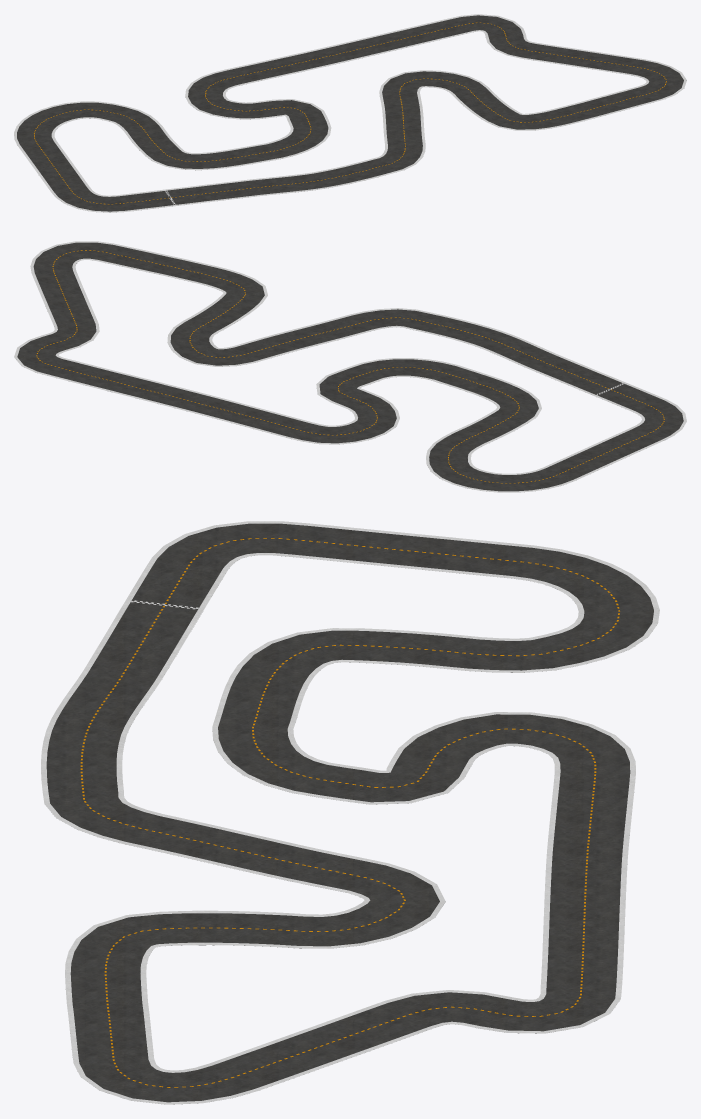
Rendered from 2022_july_pro.dae.
The picture shows the model from 3 angles, top to bottom: view 1: azimuth 30°, elevation 25°; view 2: azimuth 150°, elevation 25°; view 3: azimuth 270°, elevation 25°; orthographic projection. The views are drawn at different scales.
Parts seen in each view (by area): view 1: road, il, ol, cl; view 2: road, il, ol, cl; view 3: road, il, ol, cl.
Boxes of the visible parts, x1=… form: road: x1=17, y1=15, x2=683, y2=211; il: x1=14, y1=14, x2=686, y2=212; ol: x1=51, y1=30, x2=649, y2=196; cl: x1=34, y1=22, x2=666, y2=204; road: x1=17, y1=242, x2=683, y2=491; il: x1=14, y1=241, x2=686, y2=492; ol: x1=55, y1=258, x2=644, y2=474; cl: x1=36, y1=250, x2=664, y2=483; road: x1=46, y1=523, x2=653, y2=1104; il: x1=41, y1=521, x2=659, y2=1104; ol: x1=116, y1=553, x2=584, y2=1072; cl: x1=80, y1=538, x2=619, y2=1087.
Size of what is drawn, in the model's own units: 18.11 by 8.12 by 0.0015.
Materials: 5 (5 with a texture image).
